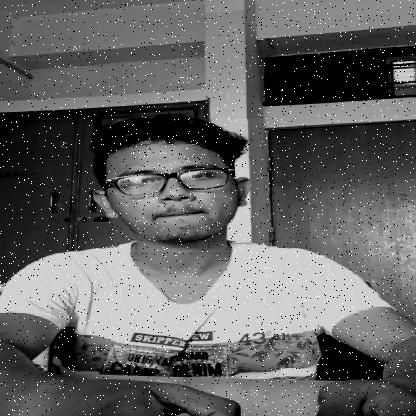Normal: (112, 119, 268, 252)
